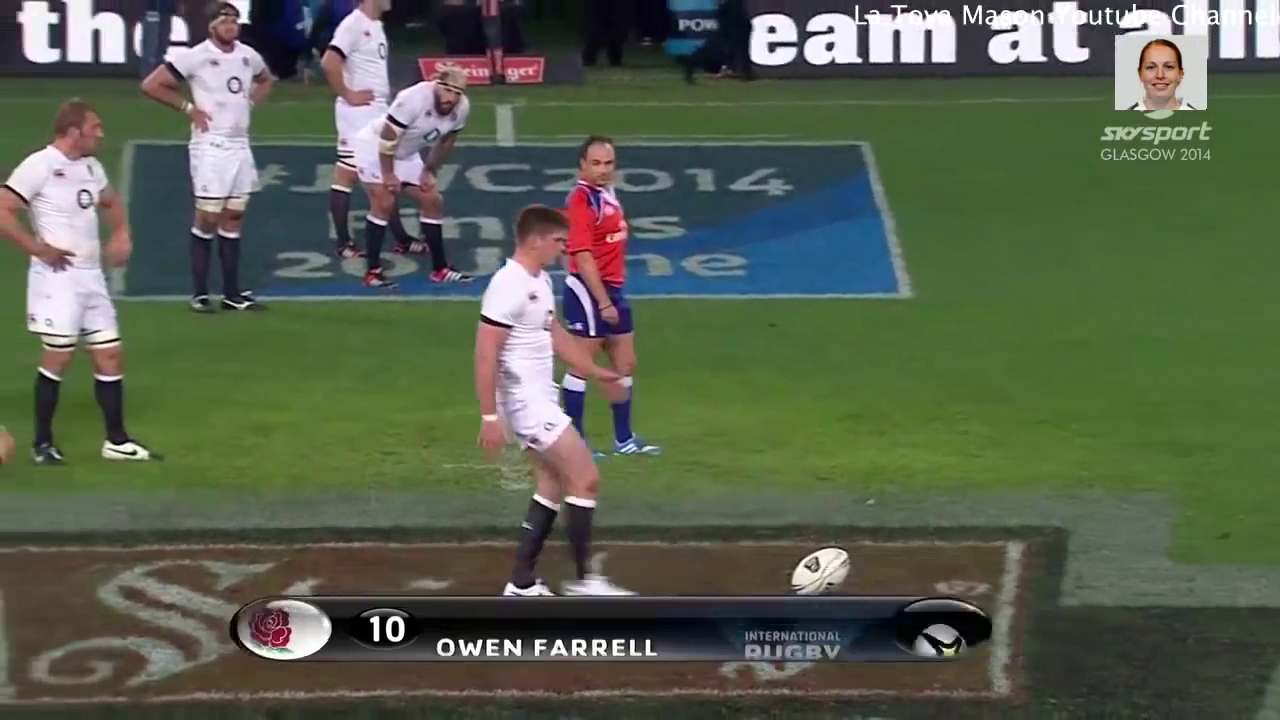ball: (773, 539, 857, 597)
player: (456, 195, 654, 595), (1, 88, 164, 471), (129, 1, 285, 319), (352, 63, 479, 294), (313, 1, 402, 259)
